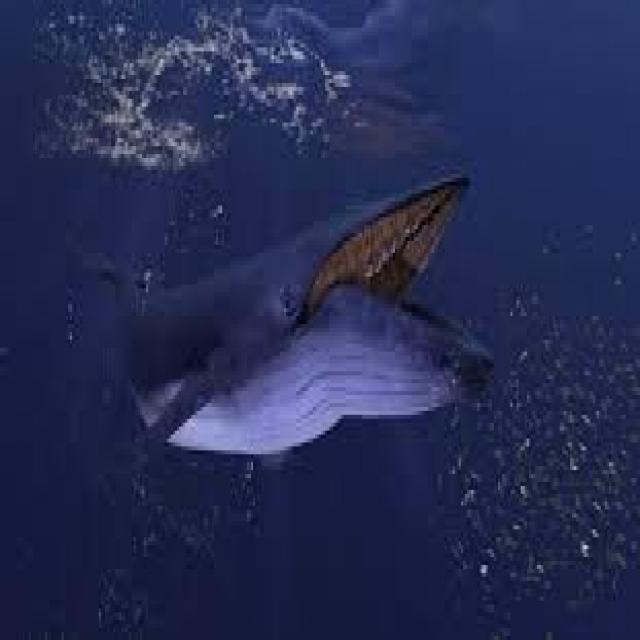blue_whale: (68, 174, 506, 462)
